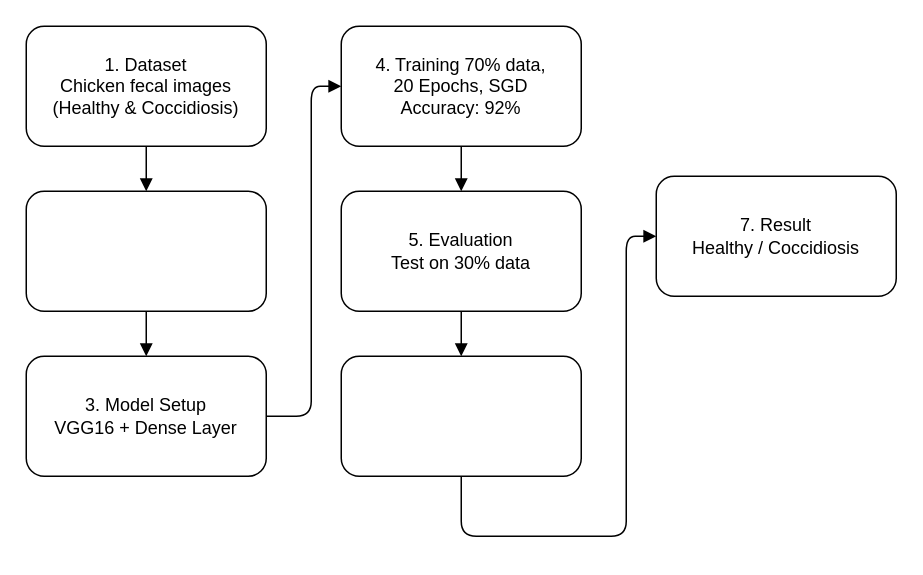
Image size: 923x575. Some labels were removed from this diagram. The centre of each missing label's shape, as x and y in pixels:
2. Preprocessing Resize 224x224 Normalize pixels: the point at 145,250
6. Deployment Flask web app: the point at 460,415
